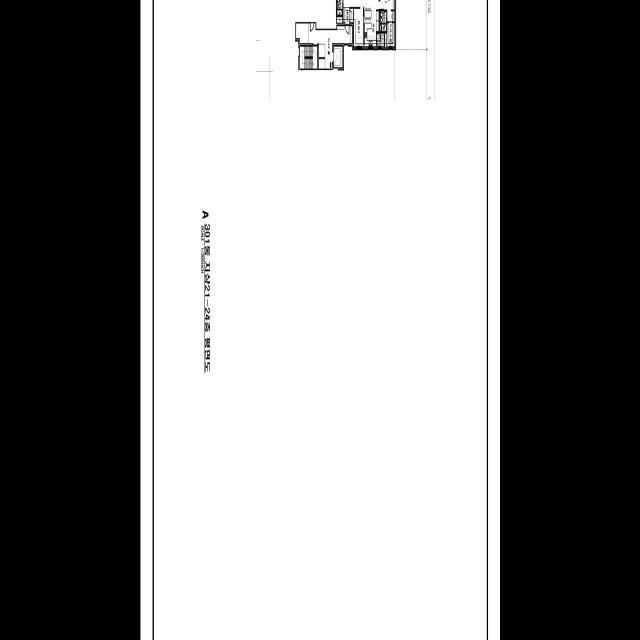background: (140, 0, 500, 640)
space_bedroom: (354, 9, 363, 46), (380, 0, 394, 22)
space_dressroom: (387, 22, 394, 46)
space_elevator: (333, 47, 342, 67)
space_elevator_hall: (296, 23, 352, 69)
space_front: (343, 8, 349, 24)
space_kitchen: (364, 9, 378, 46)
space_living_room: (343, 0, 378, 9)
space_other: (376, 33, 384, 46), (350, 9, 353, 22), (336, 17, 342, 22), (385, 34, 386, 47)
space_staircase: (299, 46, 317, 69)
space_toilet: (380, 12, 386, 31), (336, 0, 342, 16)
